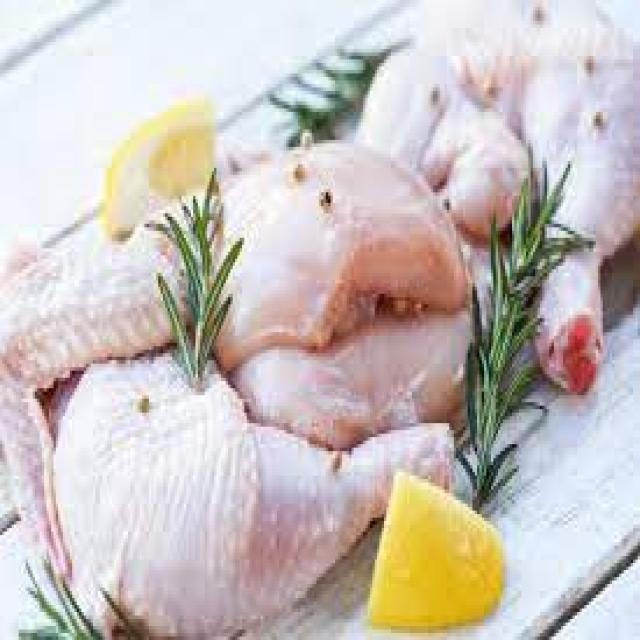Rosemary: (450, 136, 597, 533), (142, 158, 250, 395), (265, 33, 407, 150), (8, 551, 140, 640)
lemon: (364, 468, 508, 631), (98, 86, 220, 236)
